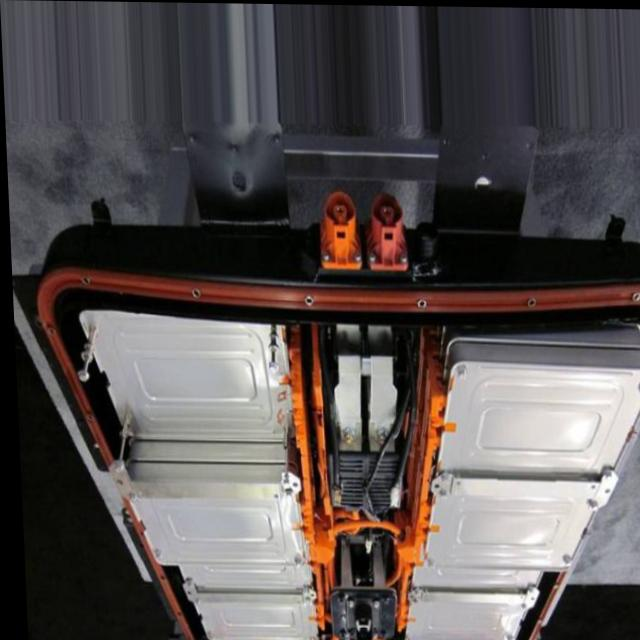Battery Module: (104, 328, 262, 435), (449, 376, 625, 456), (446, 492, 578, 560), (149, 497, 276, 558), (420, 596, 505, 640), (202, 603, 294, 640)
Bolt: (73, 325, 100, 383), (246, 328, 282, 371), (267, 476, 293, 511), (178, 577, 202, 614), (288, 578, 311, 609), (576, 494, 599, 524), (550, 544, 571, 573), (416, 545, 437, 574), (278, 543, 299, 571), (589, 461, 615, 483), (426, 486, 451, 508), (334, 591, 354, 616), (510, 589, 528, 615), (627, 378, 640, 412), (404, 588, 421, 611), (145, 544, 166, 562), (427, 468, 452, 482), (363, 593, 383, 610), (488, 627, 514, 640), (450, 362, 468, 380)
Nut: (367, 428, 392, 451), (330, 423, 352, 445)
